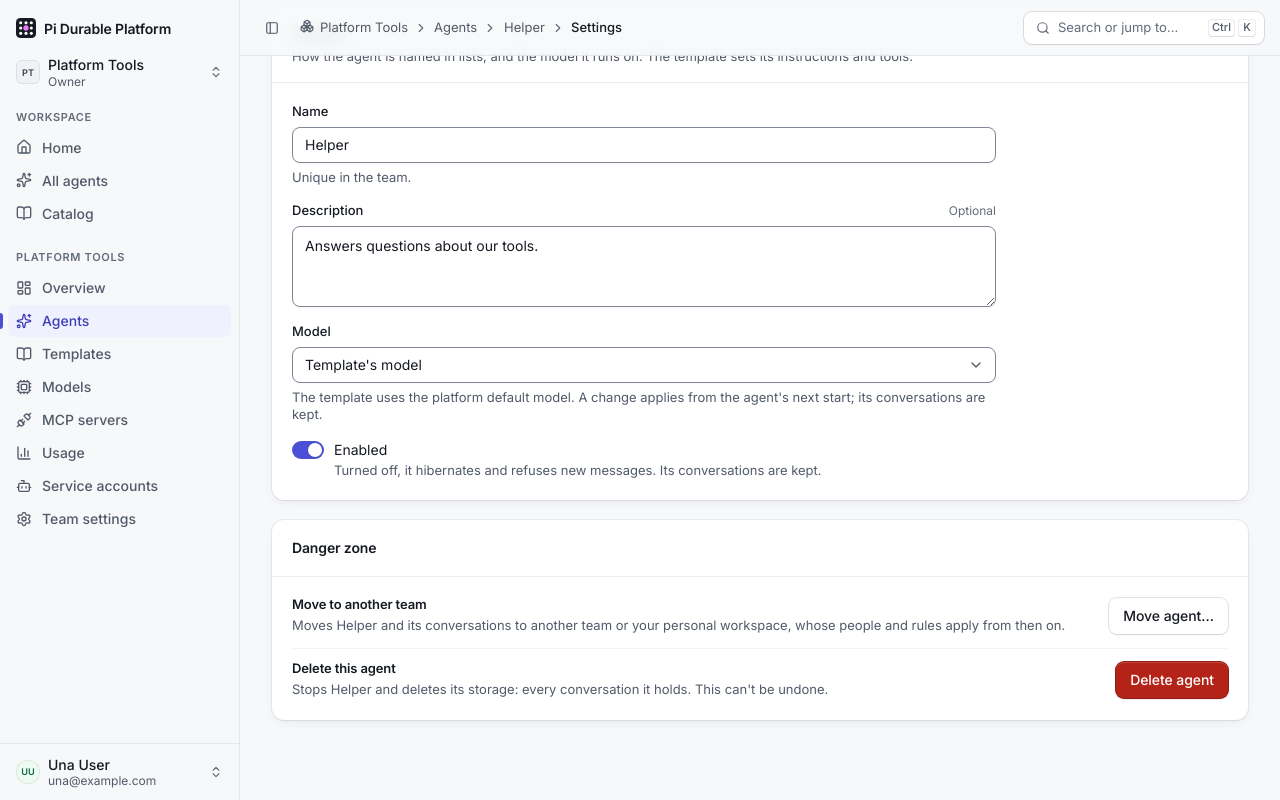
Test case: Settings › Move to another team › says what stops the move, and doesn't offer it
The image size is (1280, 800).
(page scrolled)
Click the button "Move agent…".
click(1169, 616)  # box [1109,598,1228,634]
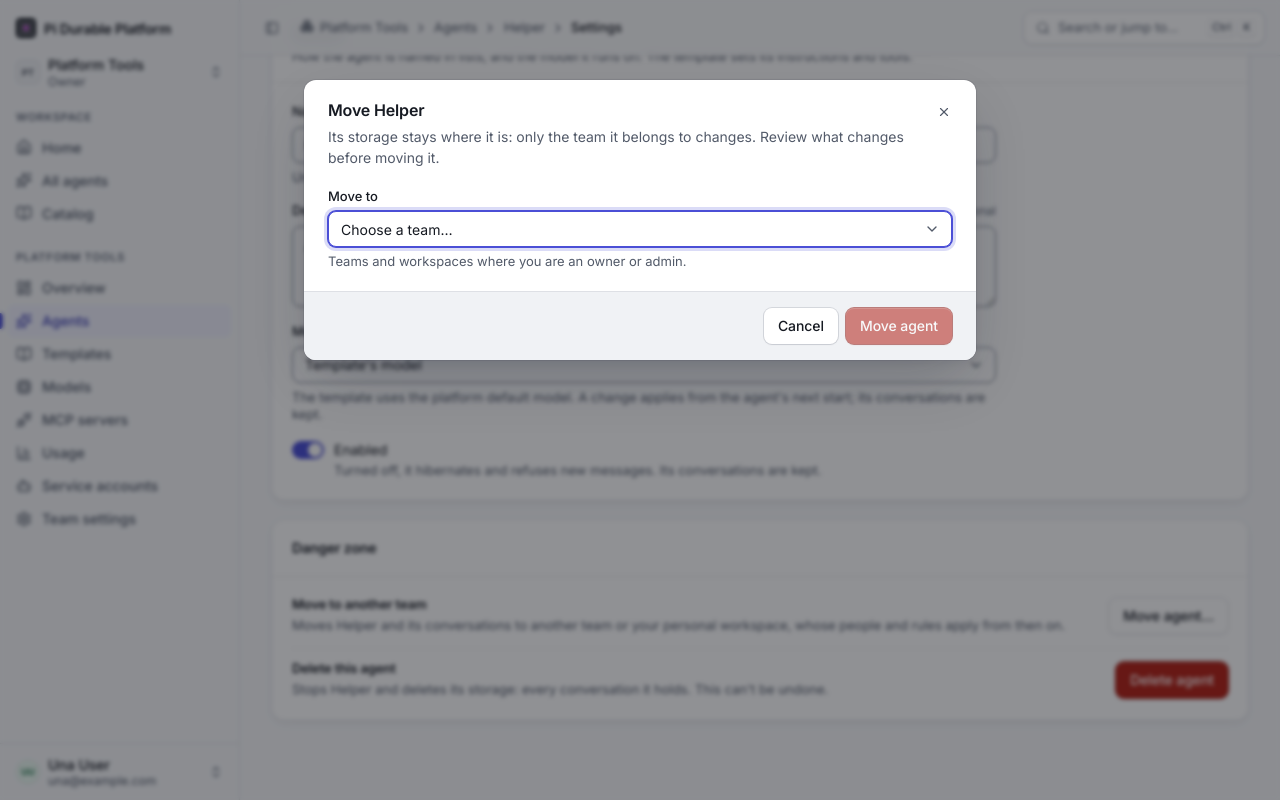
Select "Your personal workspace" in the dropdown labelled "Move to" at (640, 229), box [328,211,952,247]
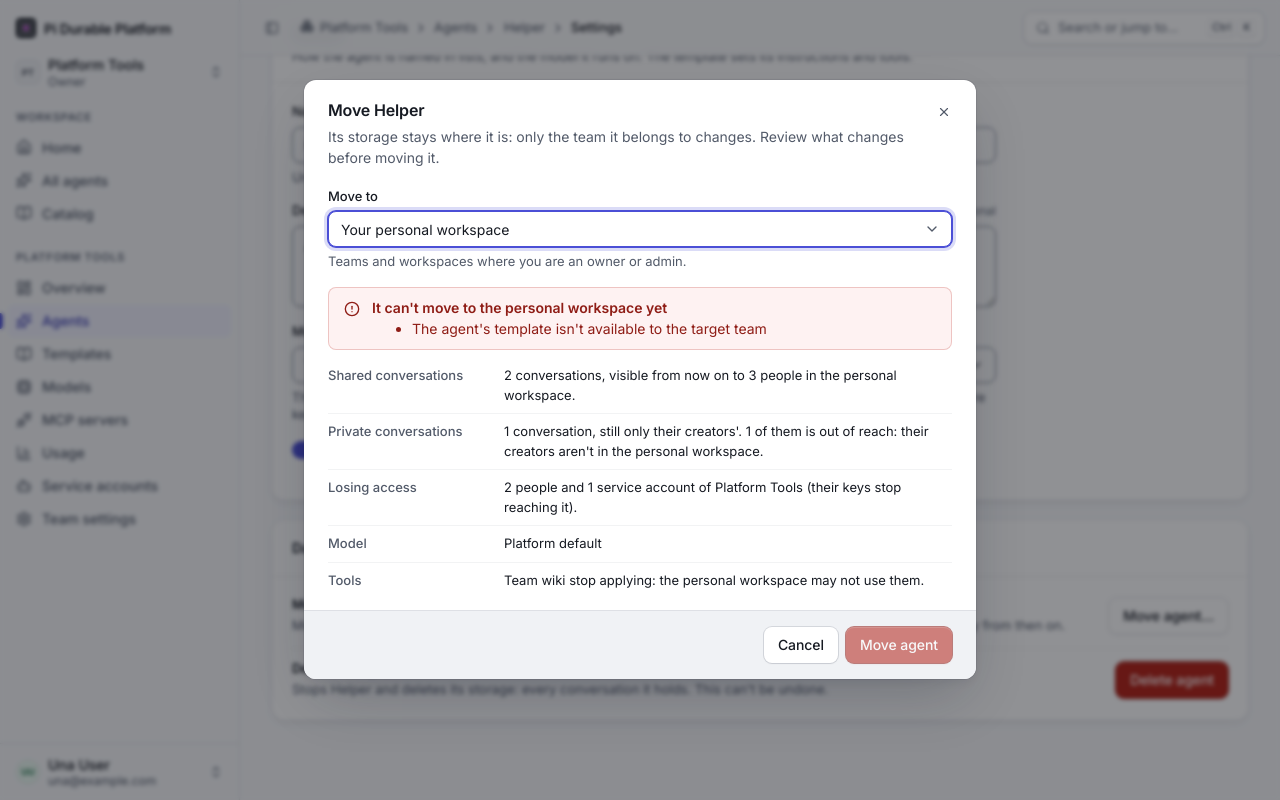
Expected: the button "Move agent" is disabled, [846,628,952,664]
Expected: the text "It can't move to the personal workspace yet" is shown, [372,299,667,316]
Expected: the list item "The agent's template isn't available to the target team" is shown, [412,320,767,337]
